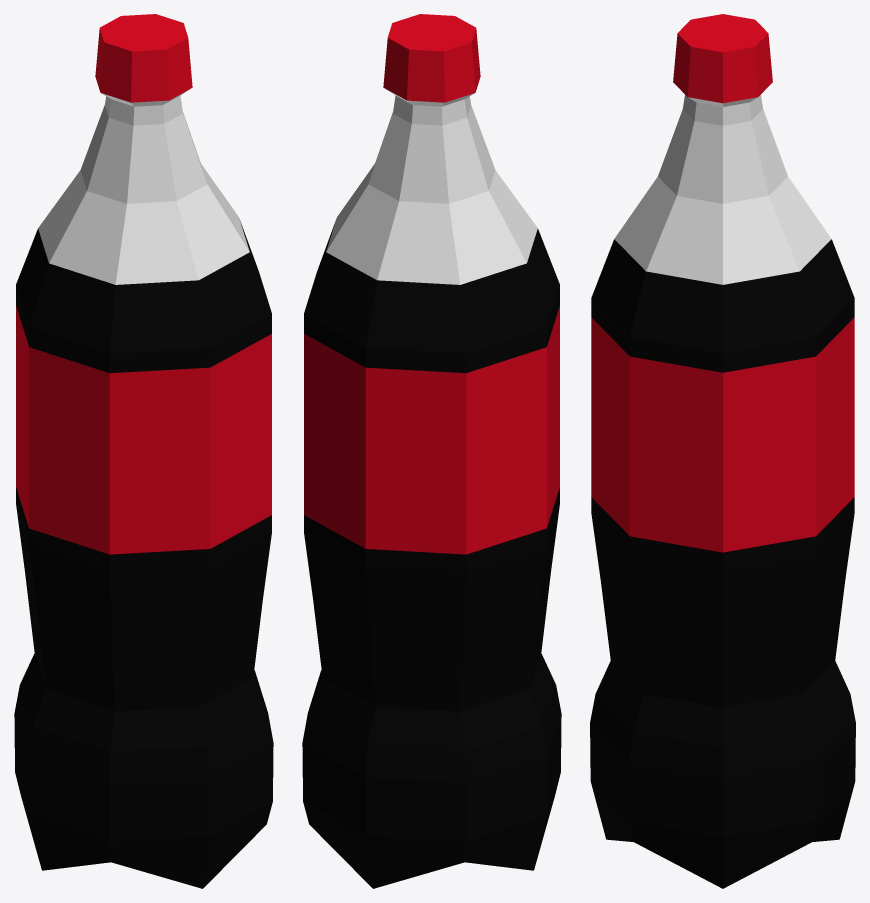
The model's file is coke.glb.
3 views of the same model, side by side, from view 1: azimuth 30°, elevation 25°; view 2: azimuth 150°, elevation 25°; view 3: azimuth 270°, elevation 25° (orthographic).
Visible parts, largest first — view 1: Coke_bottle; view 2: Coke_bottle; view 3: Coke_bottle.
Part boxes in pixels (x1,y1,x2,y2): Coke_bottle: [14, 14, 273, 888]; Coke_bottle: [302, 14, 561, 888]; Coke_bottle: [590, 14, 855, 888].
Bounding box in the file's own units: 1.47 × 4.91 × 1.47.
